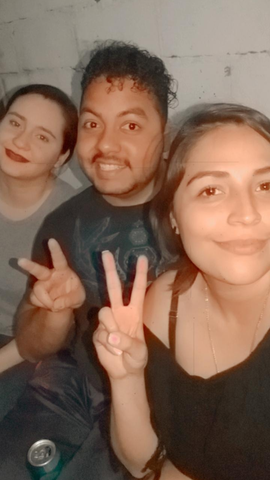Yoshi: (68, 35, 172, 202)
